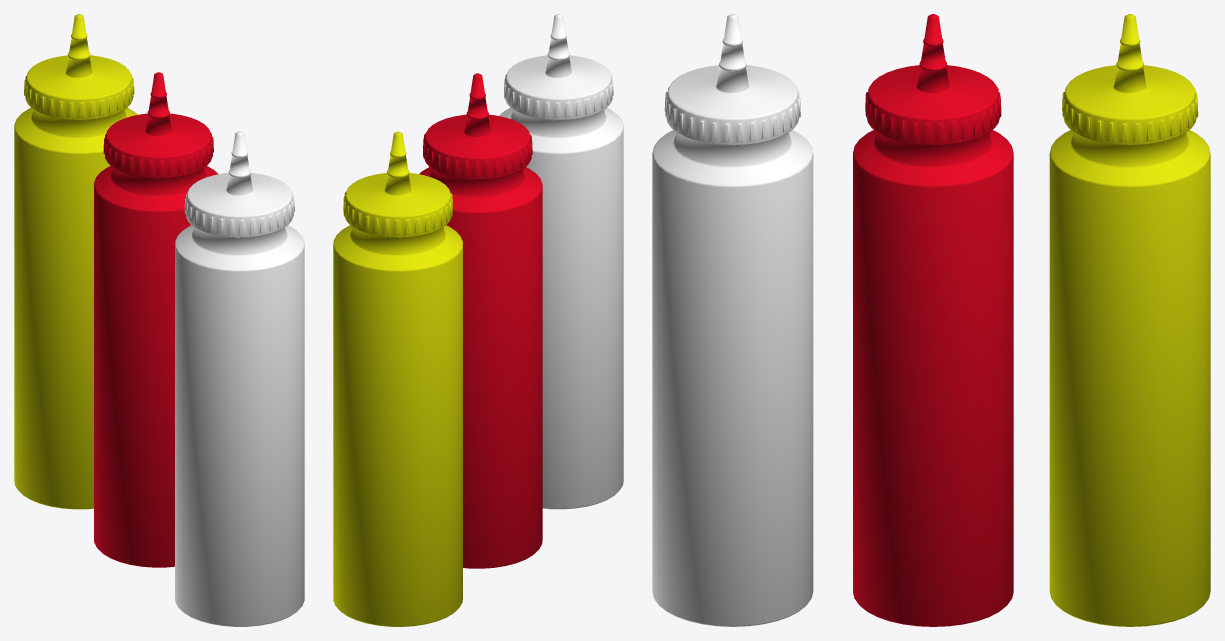
The model's file is condiment bottels.fbx.
The picture shows the model from 3 angles, left to right: view 1: azimuth 30°, elevation 25°; view 2: azimuth 150°, elevation 25°; view 3: azimuth 270°, elevation 25°; orthographic projection. The views are drawn at different scales.
Parts seen in each view (by area): view 1: Cylinder.002, Cylinder, Cylinder.001; view 2: Cylinder.001, Cylinder.002, Cylinder; view 3: Cylinder.001, Cylinder.002, Cylinder.
Part boxes in pixels (<box>): Cylinder.002: <box>175,131,304,626</box>; Cylinder: <box>94,72,218,567</box>; Cylinder.001: <box>14,14,137,509</box>; Cylinder.001: <box>333,131,462,626</box>; Cylinder.002: <box>499,14,623,509</box>; Cylinder: <box>419,73,542,568</box>; Cylinder.001: <box>1049,14,1210,626</box>; Cylinder.002: <box>652,14,813,626</box>; Cylinder: <box>853,14,1013,626</box>.
Size of the model in its own units: 60 by 239 by 208.
